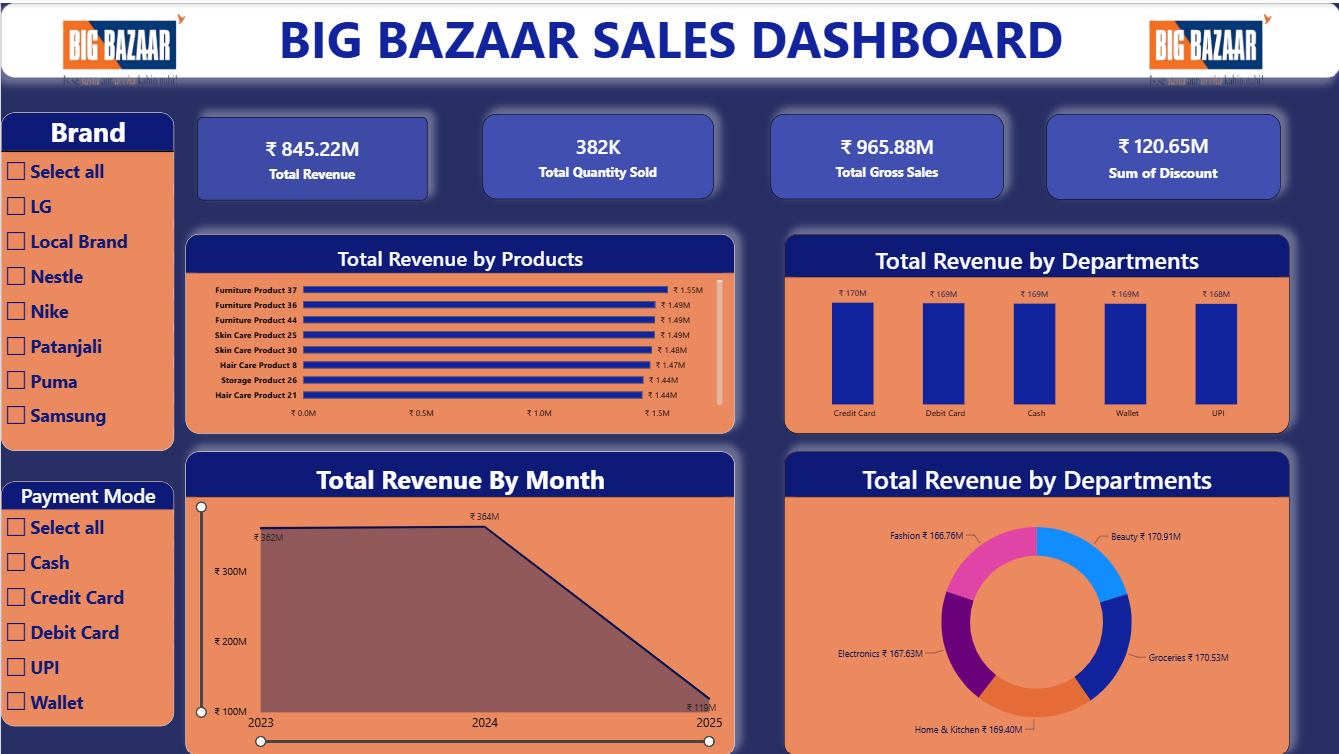

What the dashboard file says about the page in this screenshot:
{"tool":"powerbi","page":{"name":"bb1","canvas":[1920,1080],"ordinal":0},"visuals":[{"type":"card","fields":{"Values":["Sum(BigBazaar_Sales_Dataset.Net_Revenue)"]},"box":[281.5,162.2,329.3,119.3],"z":0},{"type":"card","fields":{"Values":["Sum(BigBazaar_Sales_Dataset.Quantity)"]},"box":[689.5,159.9,331.6,121.7],"z":1000},{"type":"textbox","box":[0,0,1920,106.7],"z":2000},{"type":"card","fields":{"Values":["Sum(BigBazaar_Sales_Dataset.Gross_Sales)"]},"box":[1102.3,159.9,334,121.7],"z":3000},{"type":"card","fields":{"Values":["Sum(BigBazaar_Sales_Dataset.Discount)"]},"box":[1497.6,159,335.2,122.5],"z":4000},{"type":"areaChart","title":"Total Revenue By Month","fields":{"Category":["BigBazaar_Sales_Dataset.Transaction_Date.Variation.Date Hierarchy.Year","BigBazaar_Sales_Dataset.Transaction_Date.Variation.Date Hierarchy.Month"],"Y":["Sum(BigBazaar_Sales_Dataset.Net_Revenue)"]},"box":[264.3,642.4,786.4,438.3],"z":5000},{"type":"barChart","title":"Total Revenue by Products","fields":{"Category":["BigBazaar_Sales_Dataset.Product_Name"],"Y":["Sum(BigBazaar_Sales_Dataset.Net_Revenue)"]},"box":[264.3,330.9,786.4,285.8],"z":6000},{"type":"columnChart","title":"Total Revenue by Departments","fields":{"Category":["BigBazaar_Sales_Dataset.Payment_Mode"],"Y":["Sum(BigBazaar_Sales_Dataset.Net_Revenue)"]},"box":[1121.6,330.9,724.1,285.8],"z":7000},{"type":"donutChart","title":"Total Revenue by Departments","fields":{"Category":["BigBazaar_Sales_Dataset.Department"],"Y":["Sum(BigBazaar_Sales_Dataset.Net_Revenue)"]},"box":[1121.6,642.4,724.1,438.3],"z":8000},{"type":"image","box":[0,0,350,136.7],"z":9000},{"type":"image","box":[1543.3,0,376.7,136.7],"z":10000},{"type":"slicer","title":"Brand","fields":{"Values":["BigBazaar_Sales_Dataset.Brand"]},"box":[0,157.5,248.1,484.3],"z":11000},{"type":"slicer","title":"Payment Mode","fields":{"Values":["BigBazaar_Sales_Dataset.Payment_Mode"]},"box":[0,684.8,248.1,350.7],"z":11001}]}

Visuals, with their boxes in screenshot pixels (x1, y1, x2, y2), scaled from the page's 1920x1080 canvas onto the 1339x754 screenshot:
card - Sum(BigBazaar_Sales_Dataset.Net_Revenue): bbox=[196, 113, 426, 197]
card - Sum(BigBazaar_Sales_Dataset.Quantity): bbox=[481, 112, 712, 197]
textbox: bbox=[0, 0, 1338, 74]
card - Sum(BigBazaar_Sales_Dataset.Gross_Sales): bbox=[769, 112, 1002, 197]
card - Sum(BigBazaar_Sales_Dataset.Discount): bbox=[1044, 111, 1278, 197]
"Total Revenue By Month" areaChart: bbox=[184, 448, 733, 753]
"Total Revenue by Products" barChart: bbox=[184, 231, 733, 431]
"Total Revenue by Departments" columnChart: bbox=[782, 231, 1287, 431]
"Total Revenue by Departments" donutChart: bbox=[782, 448, 1287, 753]
image: bbox=[0, 0, 244, 95]
image: bbox=[1076, 0, 1338, 95]
"Brand" slicer: bbox=[0, 110, 173, 448]
"Payment Mode" slicer: bbox=[0, 478, 173, 723]
